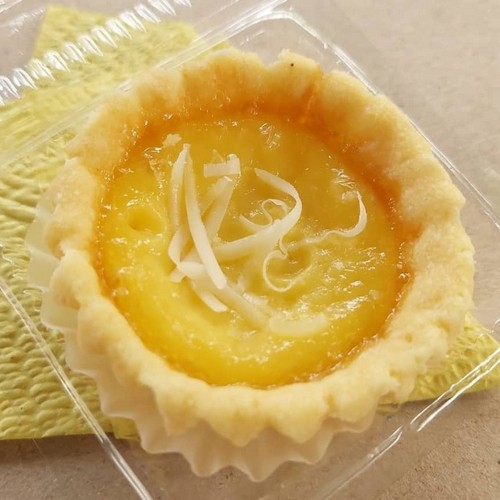pie susu: (79, 63, 447, 444)
